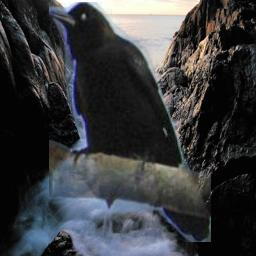Crow: (49, 2, 211, 242)
